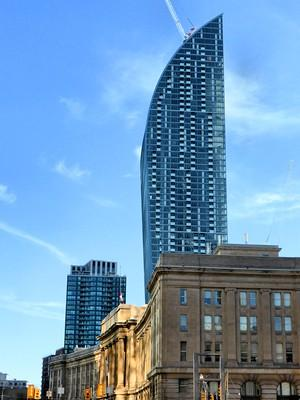building: (142, 10, 235, 308), (62, 260, 128, 371)
